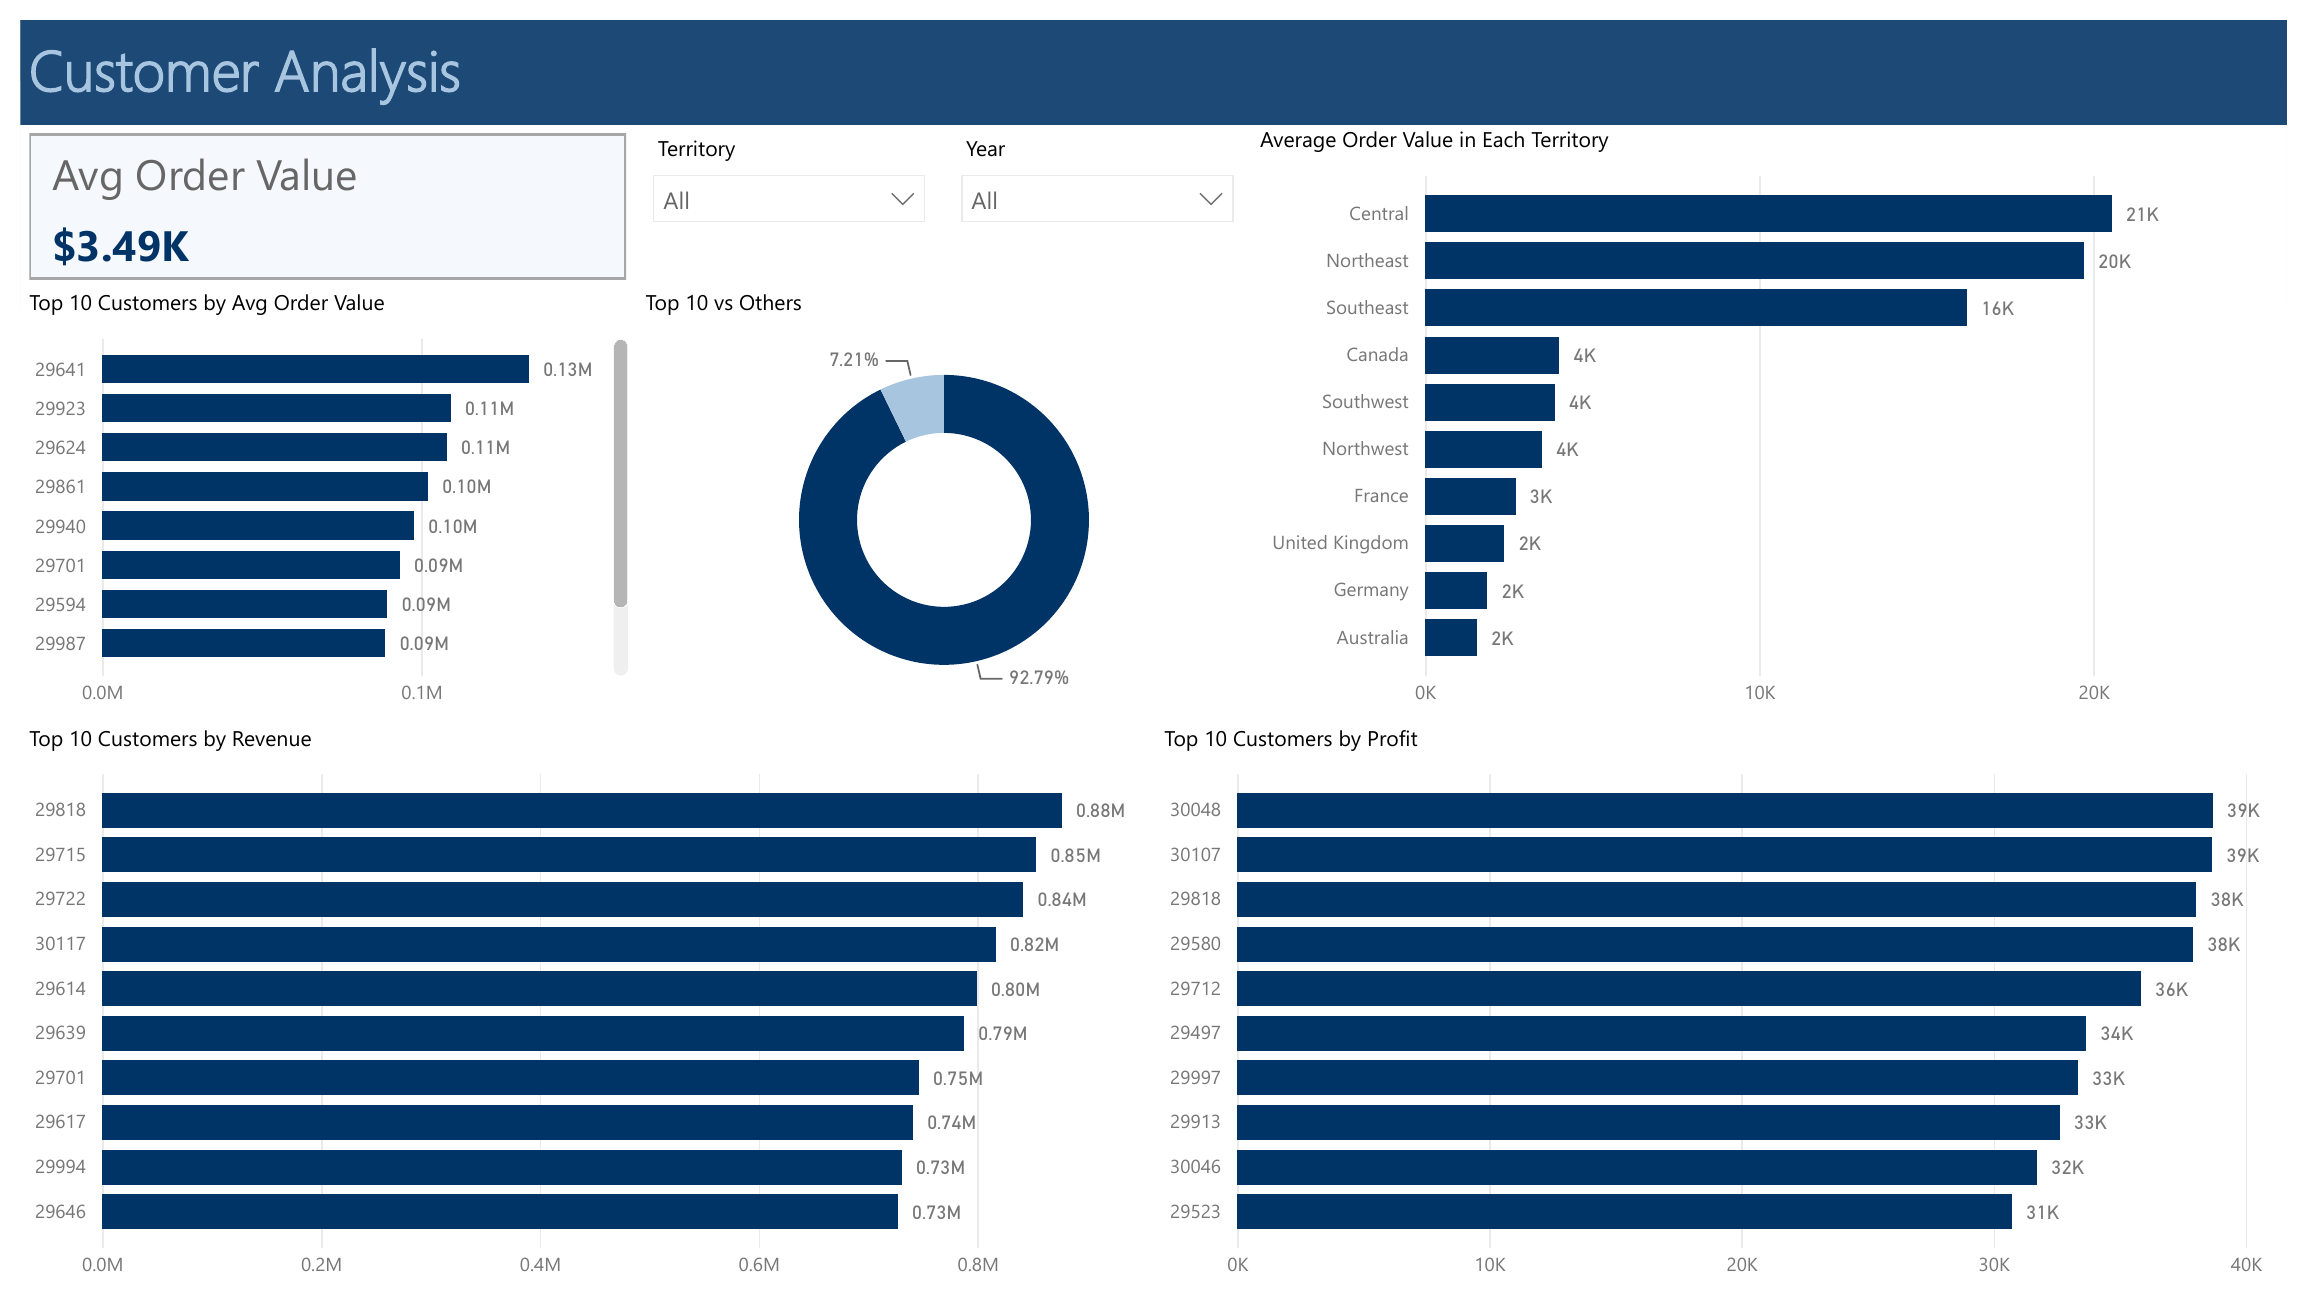

This screenshot's page, from the dashboard's own definition file:
{"tool":"powerbi","page":{"name":"Customer Analysis","canvas":[1280,720],"ordinal":2},"visuals":[{"type":"barChart","title":"Top 10 Customers by Revenue","fields":{"Category":["Sales Customer.CustomerID"],"Y":["Measure.Revenue"]},"box":[0,396.9,640.6,323.2],"z":0},{"type":"textbox","box":[0,0,1279.5,59.1],"z":1000},{"type":"barChart","title":"Top 10 Customers by Profit","fields":{"Category":["Sales Customer.CustomerID"],"Y":["Measure.Profit"]},"box":[640.6,396.9,638.7,323.2],"z":2000},{"type":"clusteredBarChart","title":"Average Order Value in Each Territory","fields":{"Y":["Measure.AvgOrderValue"],"Category":["Sales SalesTerritory.Name"]},"box":[695.4,58.6,583.9,338.3],"z":3000},{"type":"cardVisual","fields":{"Data":["Measure.AvgOrderValue"]},"box":[0,59.1,347,91.8],"z":4000},{"type":"donutChart","title":"Top 10 vs Others","fields":{"Category":["Customer Revenue Groups.Group"],"Y":["Customer Revenue Groups.Revenue by Customer Group"]},"box":[348.3,151.4,346.8,245.3],"z":5000},{"type":"slicer","fields":{"Values":["Sales SalesTerritory.Name"]},"box":[346.8,59.1,174.1,75.7],"z":6000},{"type":"slicer","fields":{"Values":["DateTable.Year"]},"box":[520.9,59.1,174.1,75.7],"z":7000},{"type":"barChart","title":"Top 10 Customers by Avg Order Value","fields":{"Category":["Sales Customer.CustomerID"],"Y":["Measure.AvgOrderValue"]},"box":[0,150.9,348.3,246.4],"z":8000}]}

Visuals, with their boxes in screenshot pixels (x1, y1, x2, y2), scaled from the page's 1280x720 canvas onto the 2308x1292 screenshot:
"Top 10 Customers by Revenue" barChart: rect(0, 712, 1155, 1291)
textbox: rect(0, 0, 2307, 106)
"Top 10 Customers by Profit" barChart: rect(1155, 712, 2307, 1291)
"Average Order Value in Each Territory" clusteredBarChart: rect(1254, 105, 2307, 712)
cardVisual - Measure.AvgOrderValue: rect(0, 106, 626, 271)
"Top 10 vs Others" donutChart: rect(628, 272, 1253, 712)
slicer - Sales SalesTerritory.Name: rect(625, 106, 939, 242)
slicer - DateTable.Year: rect(939, 106, 1253, 242)
"Top 10 Customers by Avg Order Value" barChart: rect(0, 271, 628, 713)
